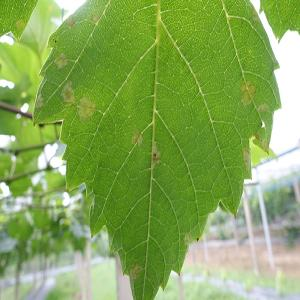Folha: (31, 0, 281, 298)
Fungo: (76, 96, 94, 122), (240, 80, 256, 106), (60, 80, 76, 106), (129, 262, 145, 281), (54, 52, 68, 70), (130, 128, 142, 147), (152, 142, 160, 166), (35, 93, 43, 109), (257, 102, 269, 112), (183, 231, 190, 246)
